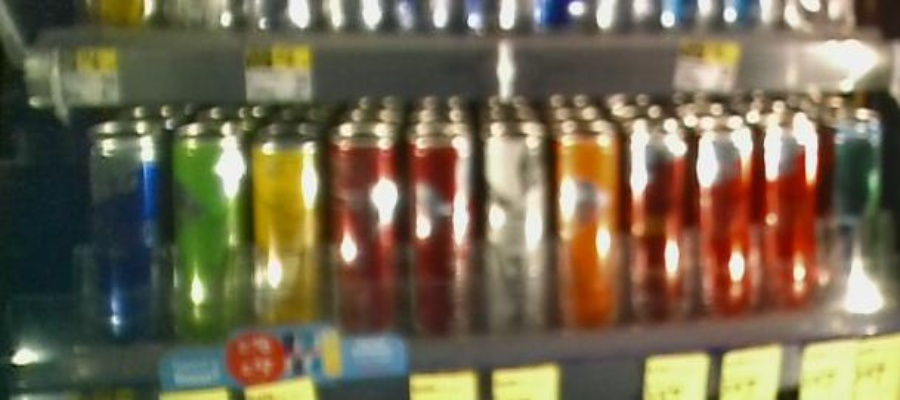bottle: (84, 118, 164, 346), (171, 116, 245, 349), (248, 122, 324, 348), (328, 111, 400, 343), (405, 118, 476, 346), (482, 116, 547, 346), (624, 116, 690, 335), (553, 118, 616, 336), (695, 116, 758, 320), (763, 113, 816, 317)
